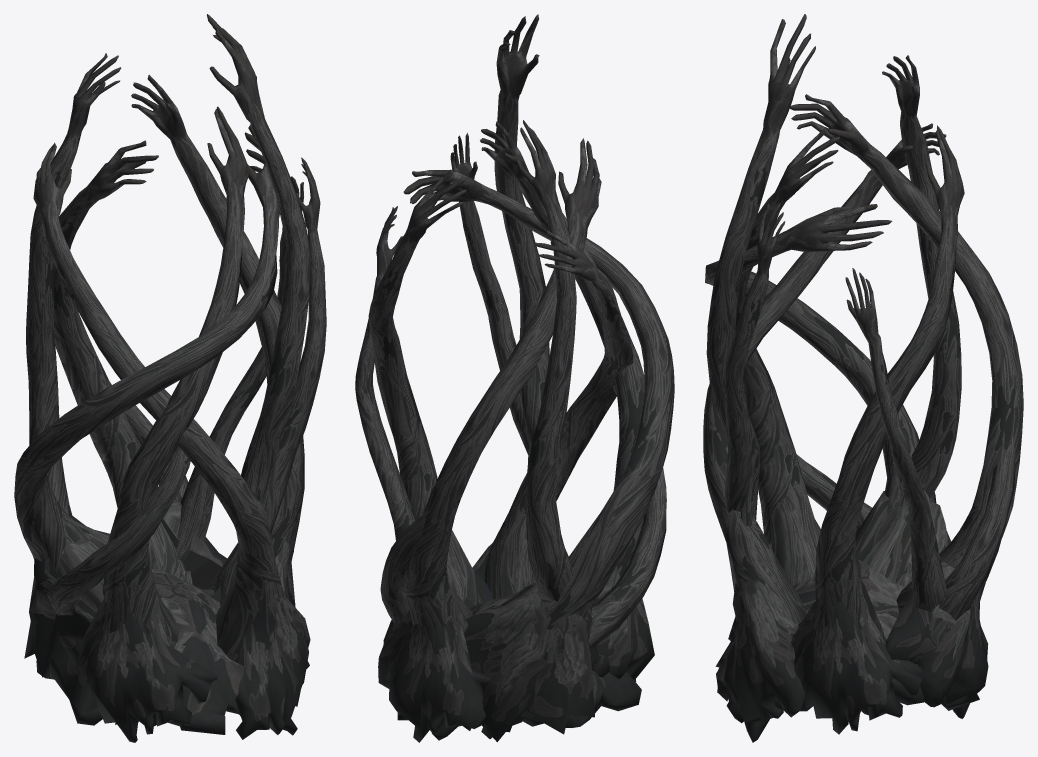
File: bg_rad_kamen_deco02b_sm_kjs.obj
3 views of the same model, side by side, from view 1: azimuth 30°, elevation 25°; view 2: azimuth 150°, elevation 25°; view 3: azimuth 270°, elevation 25° (orthographic). The views are drawn at different scales.
Visible parts, largest first — view 1: bg_rad_kamen_deco02b_sm_kjs_0; view 2: bg_rad_kamen_deco02b_sm_kjs_0; view 3: bg_rad_kamen_deco02b_sm_kjs_0.
Part boxes in pixels (x1,y1,x2,y2): bg_rad_kamen_deco02b_sm_kjs_0: (14, 14, 326, 742); bg_rad_kamen_deco02b_sm_kjs_0: (355, 14, 674, 742); bg_rad_kamen_deco02b_sm_kjs_0: (703, 14, 1023, 742).
Bounding box in the file's own units: 1.75 × 4.14 × 1.72.
1 material, 1 textured.
